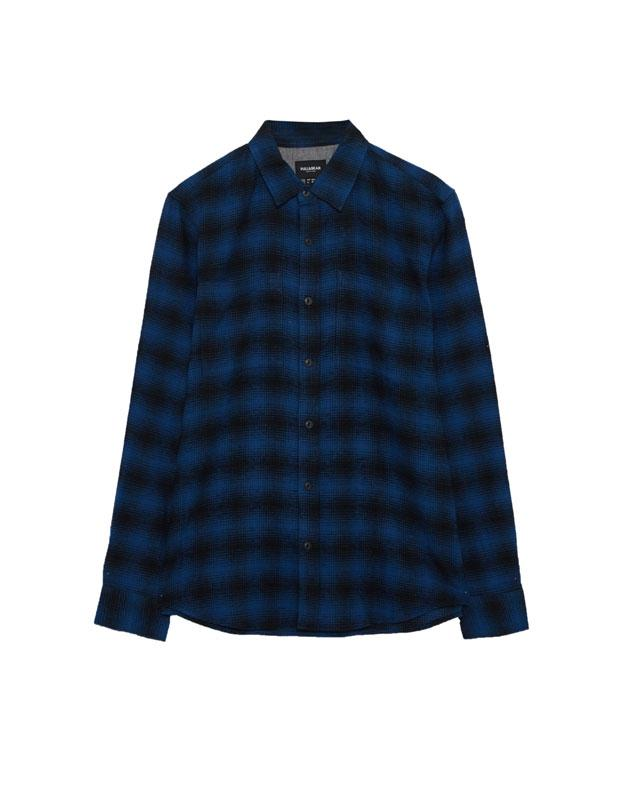teeshirt: (86, 109, 550, 658)
